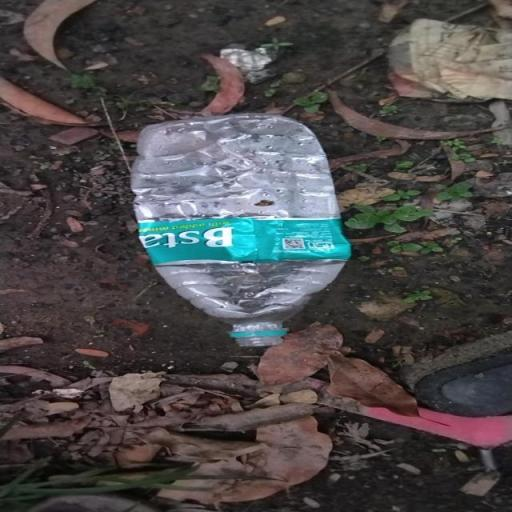plastic: (126, 112, 352, 348)
